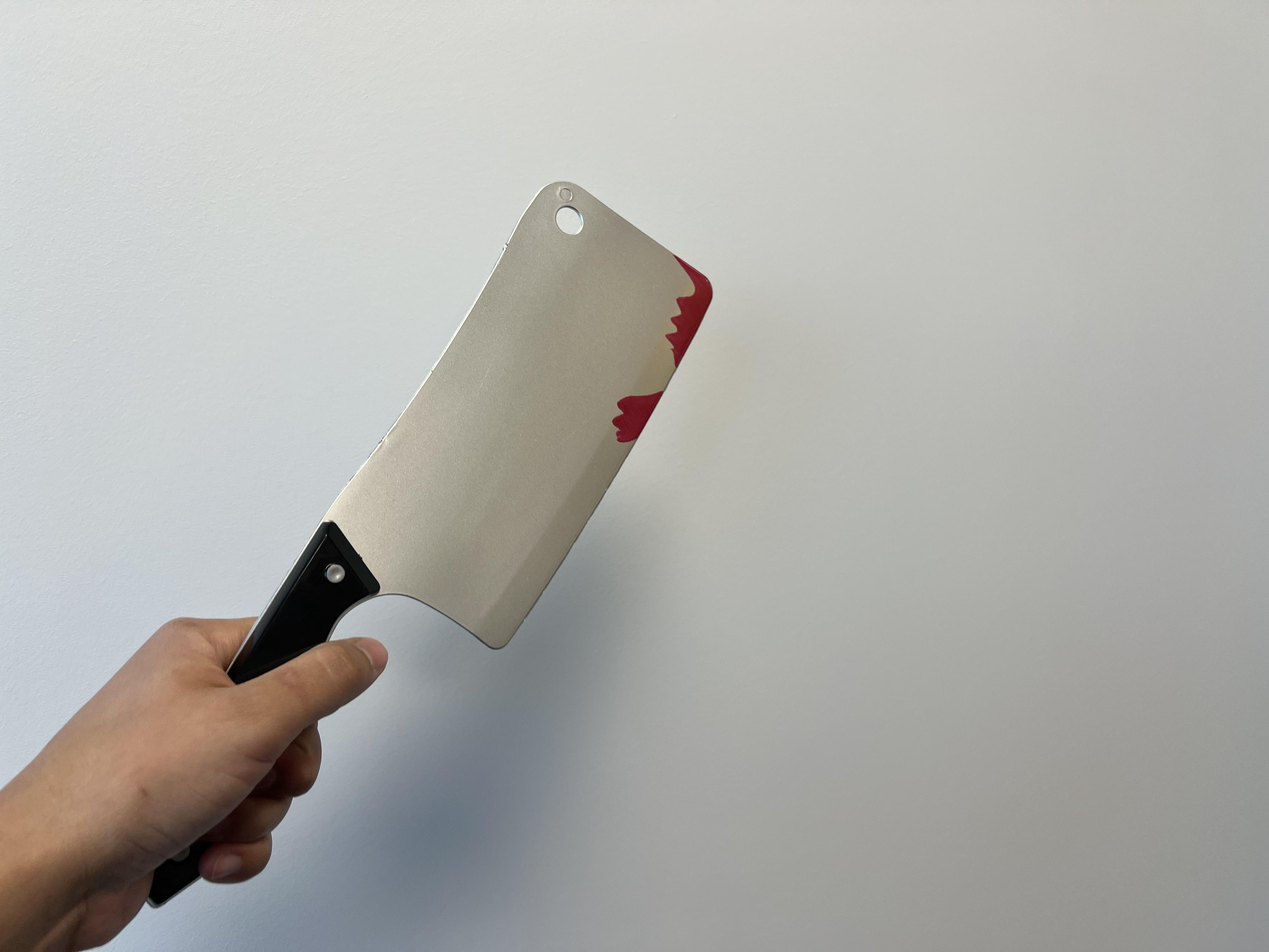Knife: (268, 183, 715, 653), (0, 615, 388, 952), (59, 615, 385, 879)
